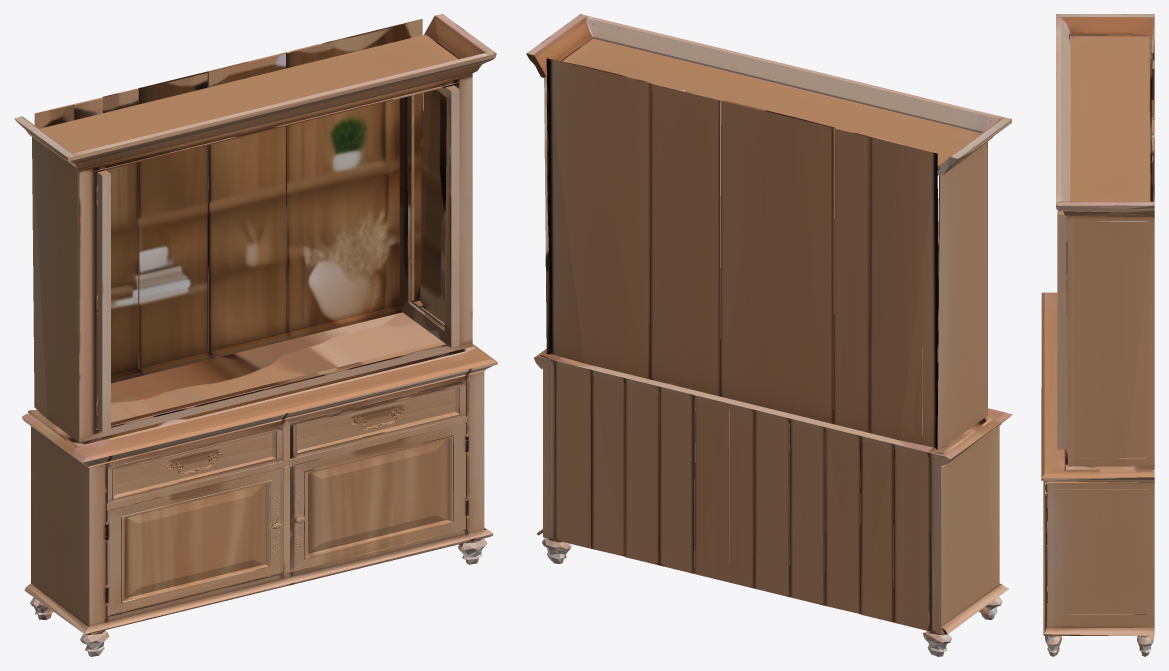
Rendered from edited_mesh.glb.
The picture shows the model from 3 angles, left to right: view 1: azimuth 30°, elevation 25°; view 2: azimuth 150°, elevation 25°; view 3: azimuth 270°, elevation 25°; orthographic projection. The views are drawn at different scales.
Visible parts, largest first — view 1: solid_001_wire; view 2: solid_001_wire; view 3: solid_001_wire.
Part boxes in pixels (box(x1,y1,x2,y2)): solid_001_wire: box(14, 14, 497, 656); solid_001_wire: box(526, 14, 1012, 656); solid_001_wire: box(1041, 14, 1154, 656).
Size of the model in its own units: 1.23 by 1.38 by 0.3083.
1 material, 1 textured.
